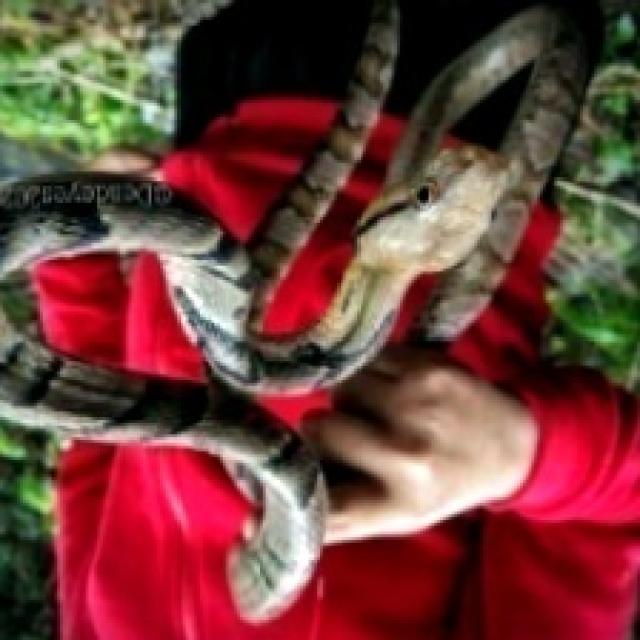dog-toothed cat snake: (0, 1, 579, 619)
